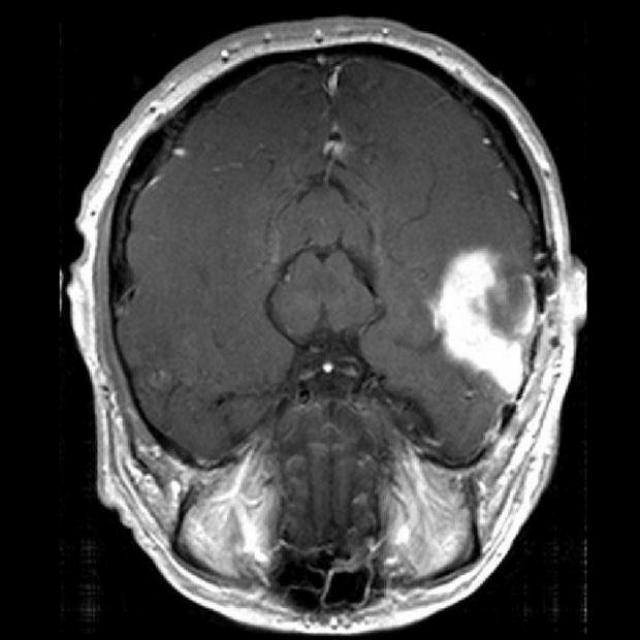Tumor: (435, 257, 539, 396)
